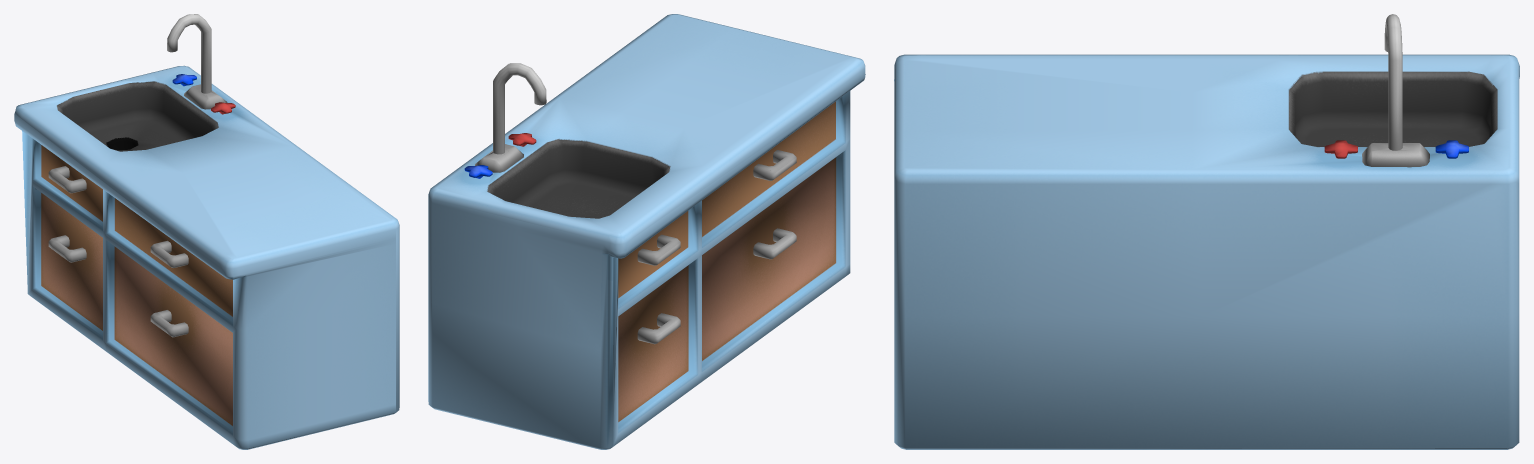
The model's file is sink.fbx.
The picture shows the model from 3 angles, left to right: view 1: azimuth 30°, elevation 25°; view 2: azimuth 150°, elevation 25°; view 3: azimuth 270°, elevation 25°; orthographic projection. The views are drawn at different scales.
Parts seen in each view (by area): view 1: Cube, Plane, Cube.002, Cube.003, Cube.001, Cube.004, Cube.005; view 2: Cube, Plane, Cube.001, Cube.003, Cube.002, Cube.004, Cube.005; view 3: Cube, Plane, Cube.005.
Part boxes in pixels (x1,y1,x2,y2): Cube: [14, 65, 399, 449]; Plane: [167, 14, 211, 93]; Cube.002: [48, 235, 86, 262]; Cube.003: [150, 310, 188, 337]; Cube.001: [48, 166, 86, 193]; Cube.004: [150, 240, 188, 267]; Cube.005: [184, 84, 227, 109]; Cube: [428, 14, 865, 449]; Plane: [493, 63, 546, 154]; Cube.001: [637, 234, 680, 265]; Cube.003: [753, 228, 796, 259]; Cube.002: [637, 313, 680, 344]; Cube.004: [753, 150, 796, 180]; Cube.005: [475, 144, 523, 172]; Cube: [894, 54, 1519, 449]; Plane: [1384, 14, 1402, 150]; Cube.005: [1362, 143, 1429, 167].
Bounding box in the file's own units: 235 × 362 × 506.
